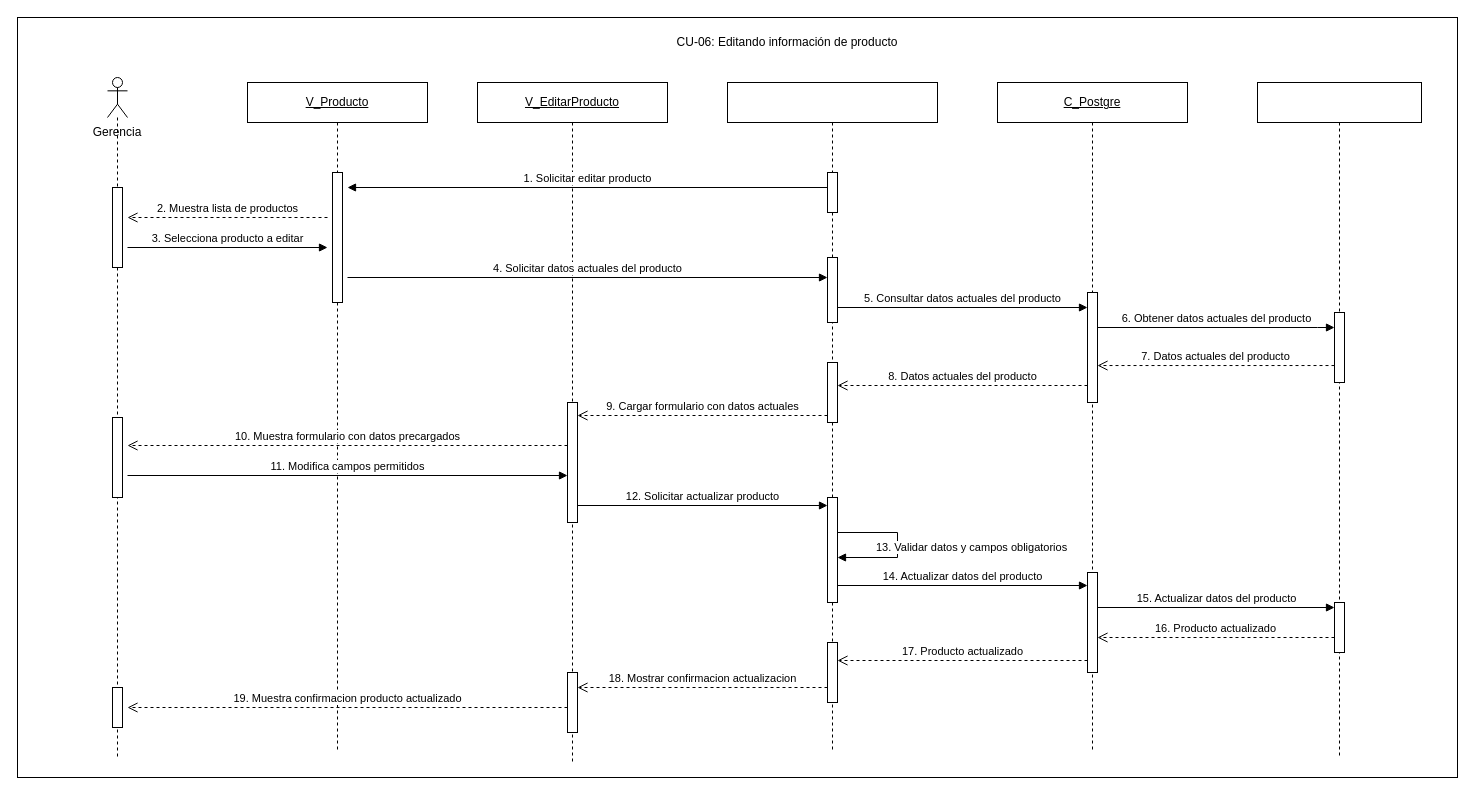
Some shapes in this 1475 by 795 pixel diagram are drawn without their labels. Here are the shapes that lost their labels. From the top down, the box of each, then its label:
(726, 82, 938, 752): C_ materiales
(1256, 82, 1422, 758): Material
